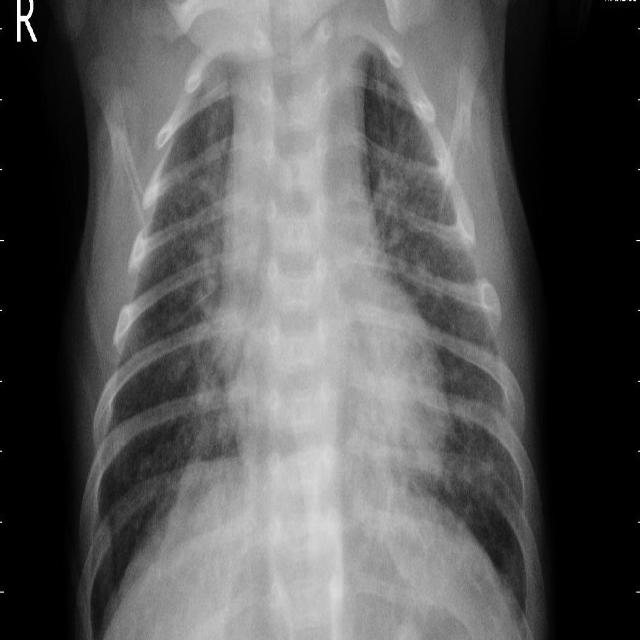low-pneumonia: (173, 112, 229, 335), (373, 126, 443, 300), (193, 343, 236, 460)
